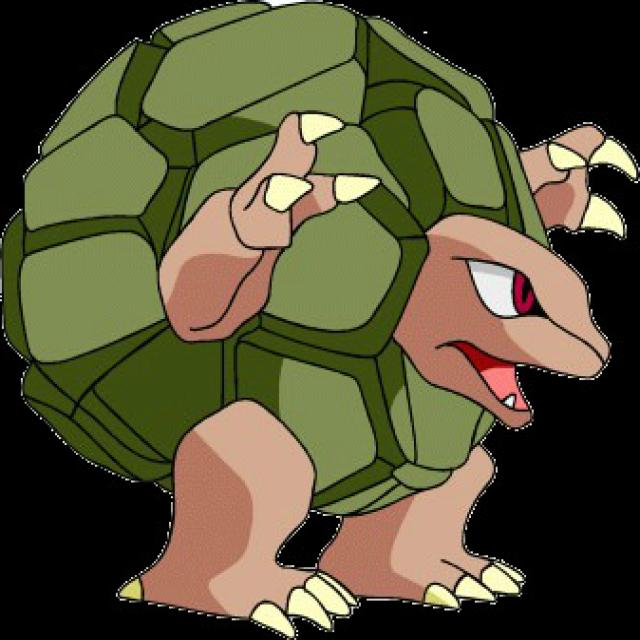Golem: (22, 2, 633, 612)
